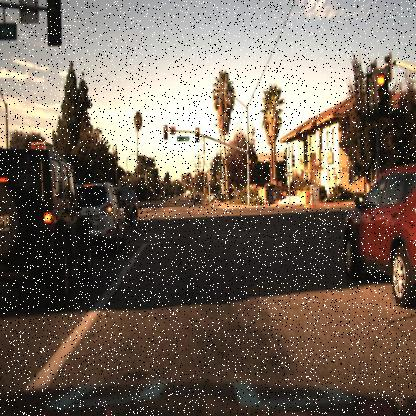car: (0, 140, 98, 300), (0, 142, 93, 310), (342, 162, 415, 312), (80, 171, 128, 255), (74, 180, 130, 245)
trafficLight-Red: (372, 68, 388, 120), (247, 154, 254, 173), (245, 152, 253, 167), (193, 123, 202, 136), (195, 124, 201, 140)
trafficLight-RedLeft: (162, 122, 170, 143), (160, 121, 170, 137)
